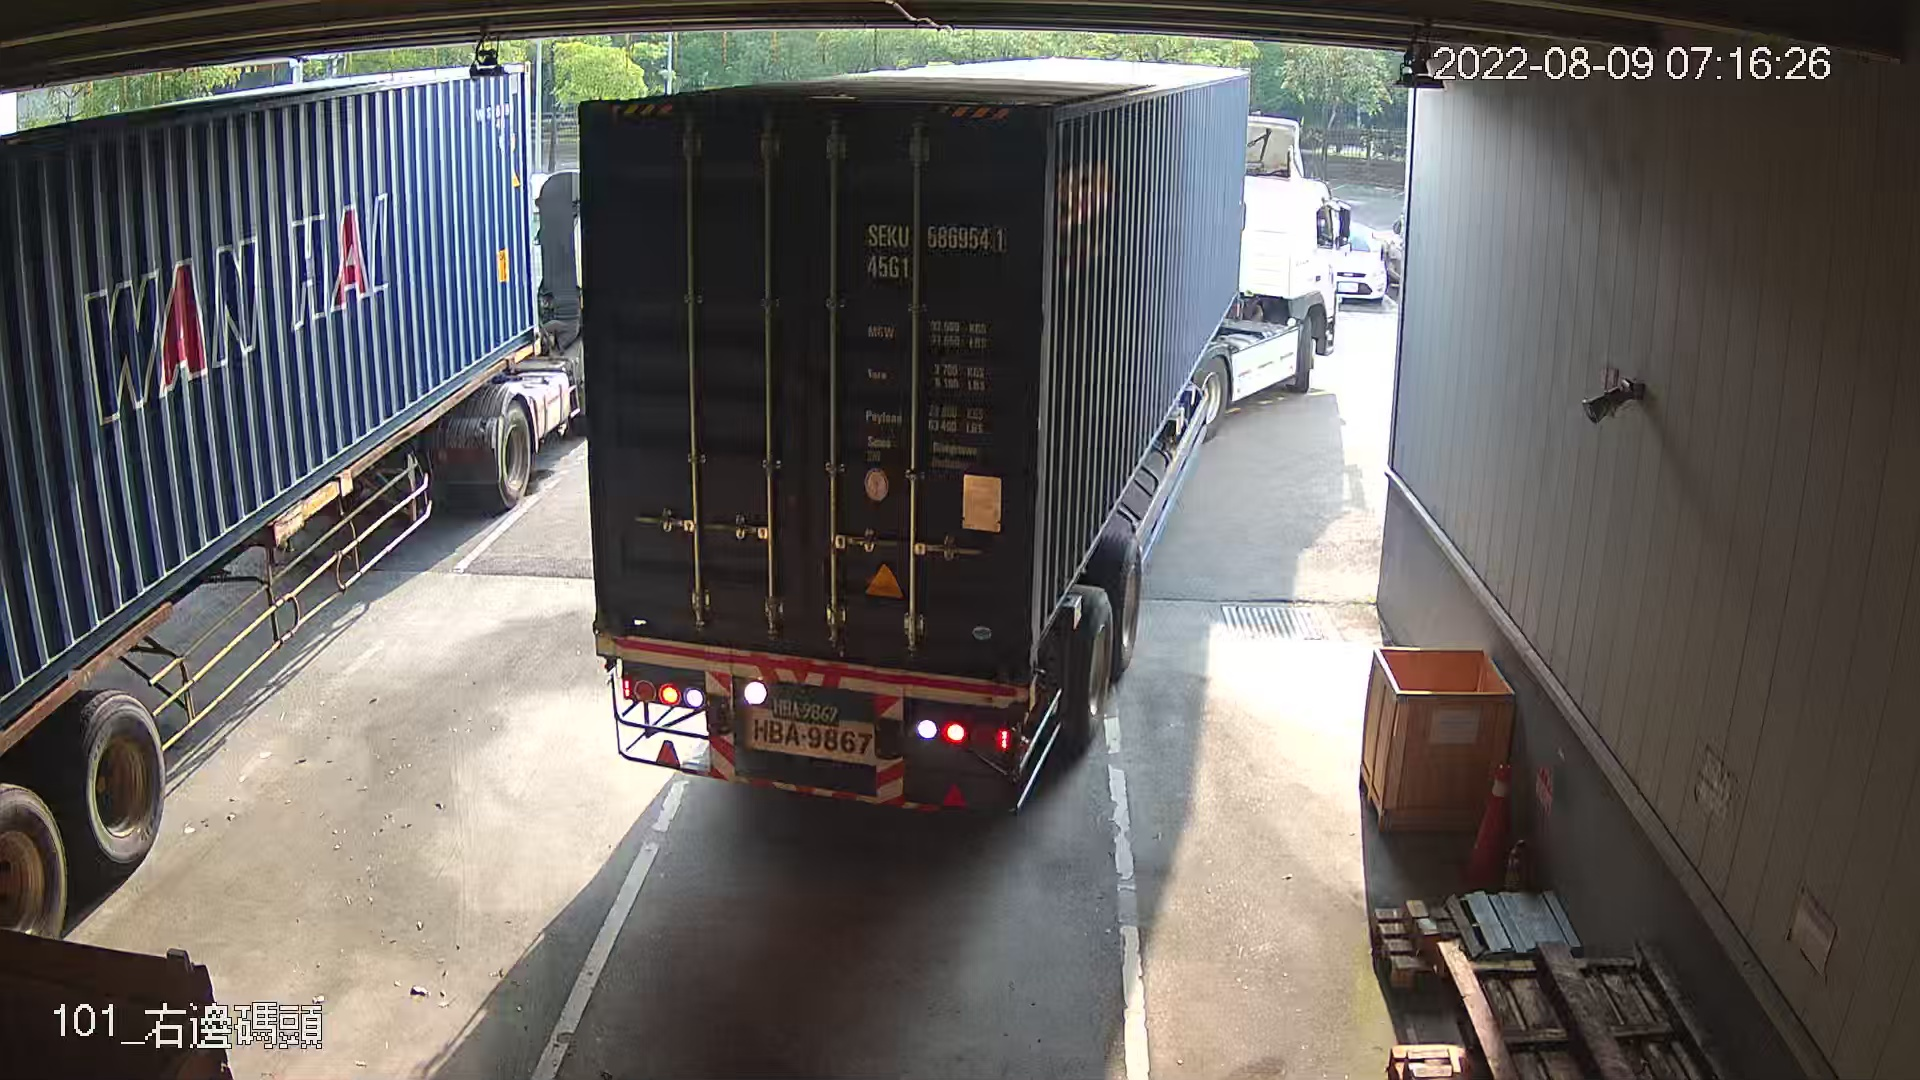container: (853, 214, 1019, 287)
